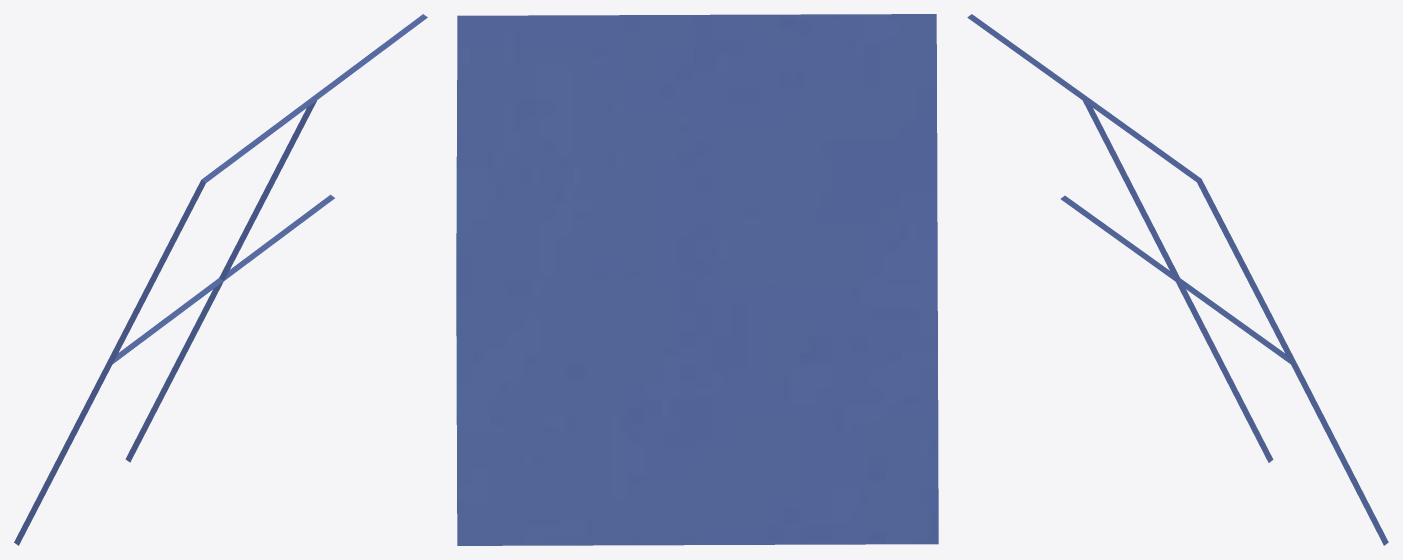
3 renders of one model, left to right at view 1: azimuth 30°, elevation 25°; view 2: azimuth 150°, elevation 25°; view 3: azimuth 270°, elevation 25°, orthographic. The views are drawn at different scales.
Size of the model in its own units: 19675 by 17788 by 16512.
1 material, 1 textured.
